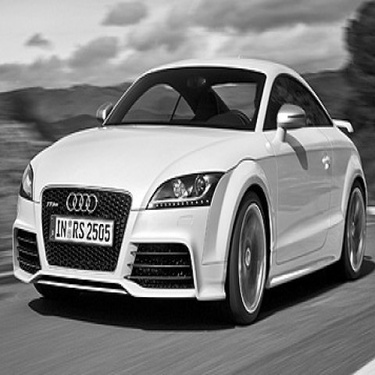car: (8, 50, 373, 330)
